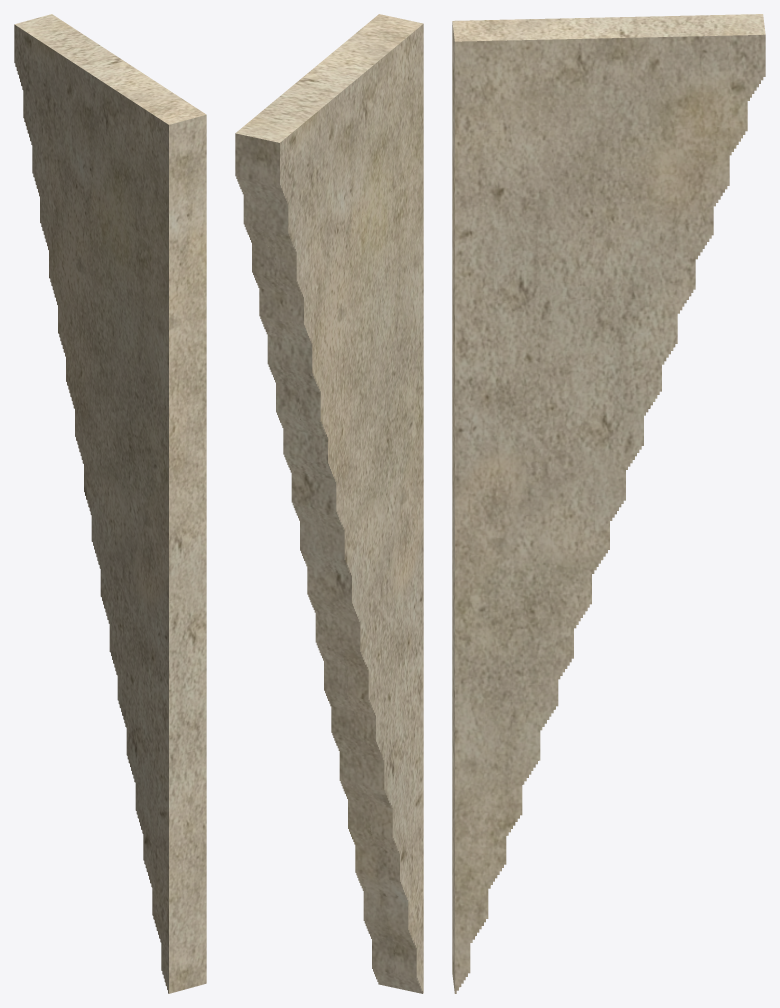
File: concrete_40.fbx
The picture shows the model from 3 angles, left to right: view 1: azimuth 30°, elevation 25°; view 2: azimuth 150°, elevation 25°; view 3: azimuth 270°, elevation 25°; orthographic projection. The views are drawn at different scales.
Parts seen in each view (by area): view 1: concrete_40; view 2: concrete_40; view 3: concrete_40.
Part boxes in pixels (x1,y1,x2,y2): concrete_40: (14, 14, 206, 993); concrete_40: (235, 14, 423, 993); concrete_40: (452, 14, 765, 993).
Size of the model in its own units: 133 by 2135 by 637.
